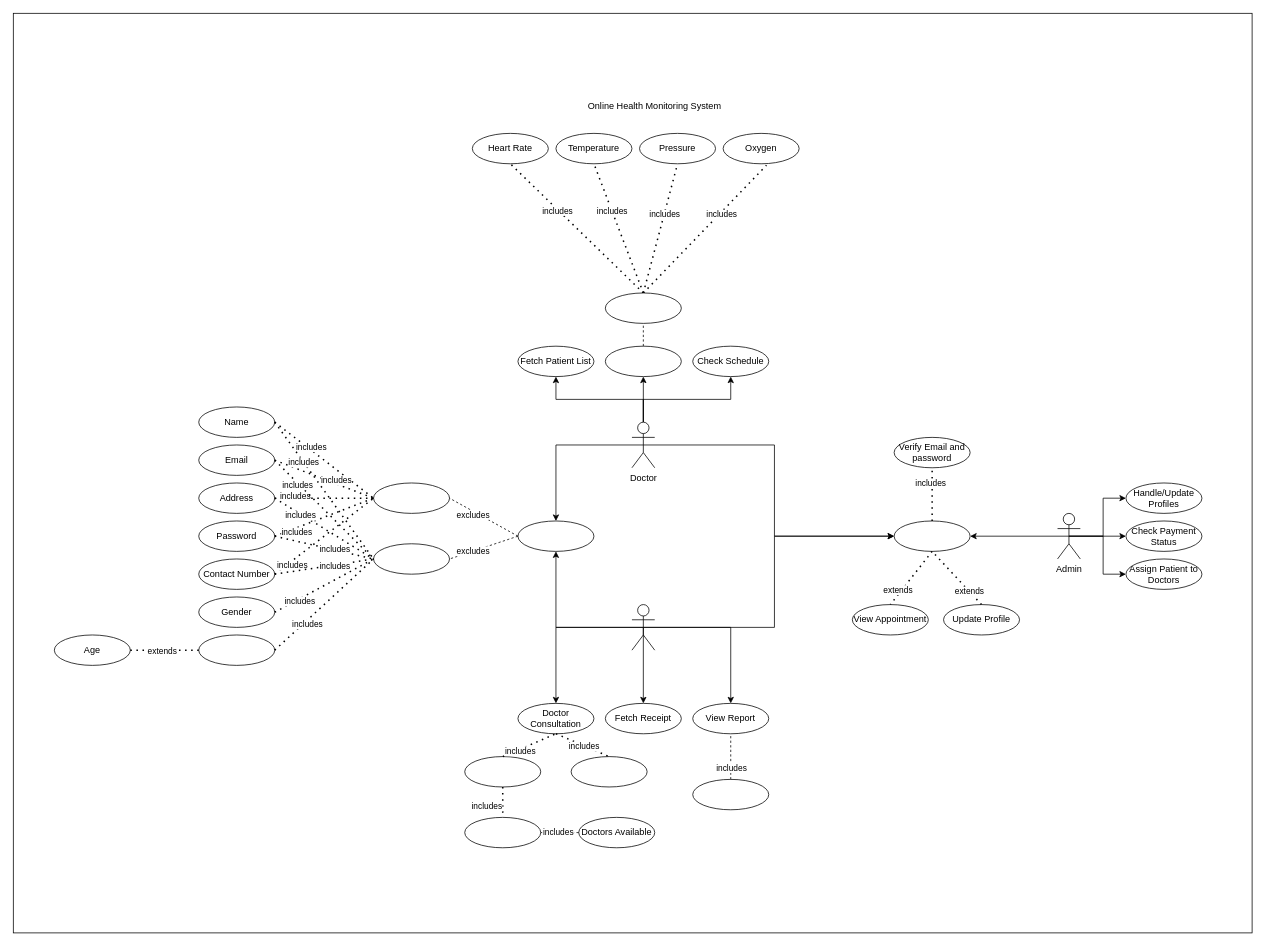
Image size: 1265x946. Some labels were removed from this diagram. The shapes that lost their labels are listed below. From the top down, each one's box as (x1, y1, x2, y2) in pixels, then its label:
(605, 292, 681, 323): Health Sensors
(605, 345, 681, 377): Check Health Status
(373, 482, 450, 513): As doctor
(517, 520, 594, 551): Register
(893, 520, 970, 551): Login/Logout
(373, 543, 450, 574): As patient
(631, 604, 655, 650): Patient
(198, 634, 275, 665): Date of Birth
(464, 756, 541, 787): Make Payment
(570, 756, 647, 787): Request Update
(692, 779, 769, 810): Health Status
(464, 817, 541, 848): Make new Appointment
